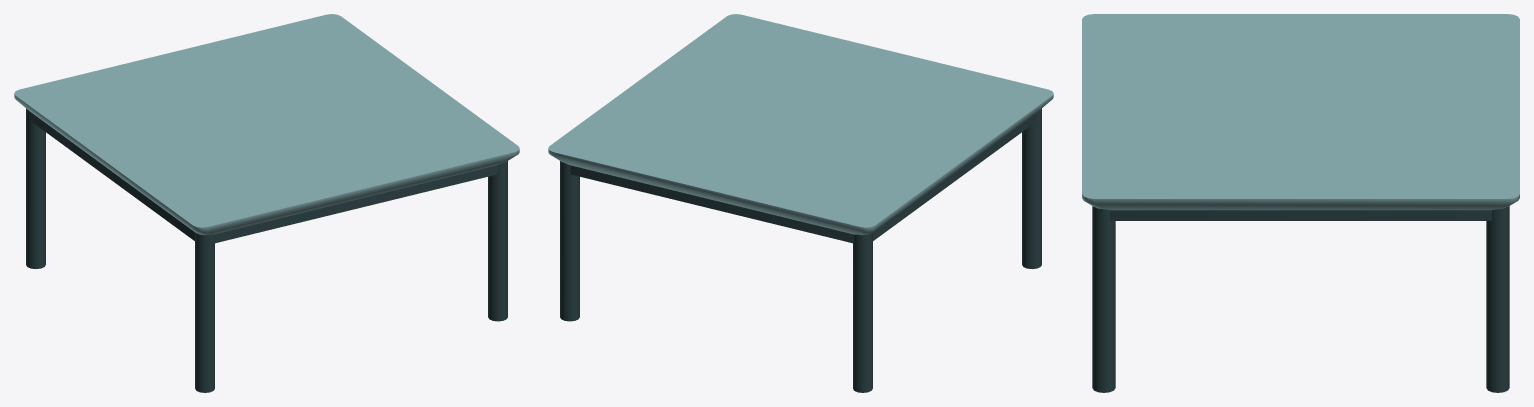
The model's file is CA_156_blue_table.glb.
3 renders of one model, left to right at view 1: azimuth 30°, elevation 25°; view 2: azimuth 150°, elevation 25°; view 3: azimuth 270°, elevation 25°, orthographic. The views are drawn at different scales.
Parts seen in each view (by area): view 1: table, legs; view 2: table, legs; view 3: table, legs.
Part boxes in pixels (box(x1,y1,x2,y2)): table: box(14, 14, 519, 243); legs: box(26, 108, 507, 392); table: box(548, 14, 1053, 243); legs: box(560, 108, 1041, 392); table: box(1082, 14, 1519, 220); legs: box(1092, 206, 1509, 392).
Bounding box in the file's own units: 2.25 × 1.12 × 2.25.
